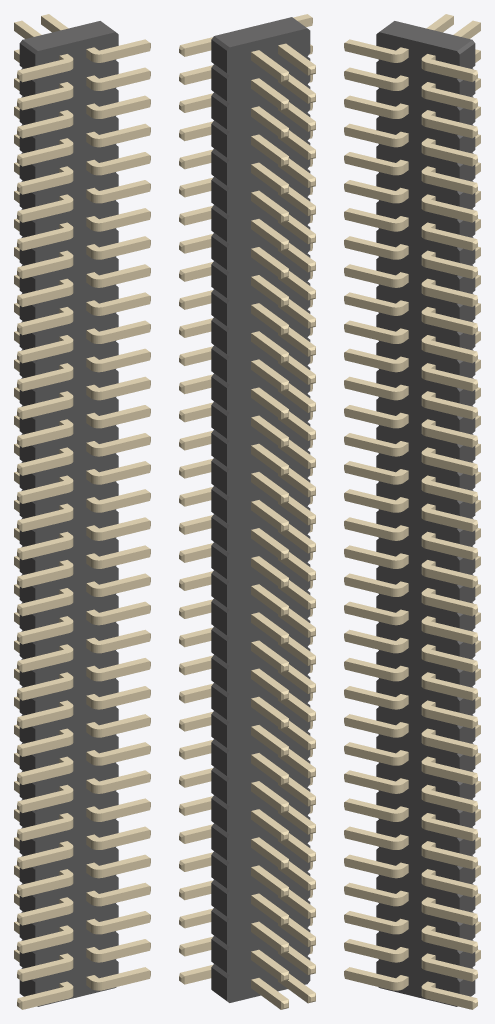
The model's file is PinHeader_2x34_P1.00mm_Vertical_SMD.glb.
3 views of the same model, side by side, from view 1: azimuth 30°, elevation 25°; view 2: azimuth 210°, elevation 25°; view 3: azimuth 330°, elevation 25° (orthographic).
Parts seen in each view (by area): view 1: Shape_IndexedFaceSet.003, Shape_IndexedFaceSet.001, Shape_IndexedFaceSet.790, Shape_IndexedFaceSet.995, Shape_IndexedFaceSet.800, Shape_IndexedFaceSet.855, Shape_IndexedFaceSet.860, Shape_IndexedFaceSet.920, Shape_IndexedFaceSet.1000, Shape_IndexedFaceSet.760, Shape_IndexedFaceSet.820, Shape_IndexedFaceSet.850 (+58 smaller); view 2: Shape_IndexedFaceSet.004, Shape_IndexedFaceSet.001, Shape_IndexedFaceSet.002, Shape_IndexedFaceSet.016, Shape_IndexedFaceSet.028, Shape_IndexedFaceSet.040, Shape_IndexedFaceSet.046, Shape_IndexedFaceSet.052, Shape_IndexedFaceSet.058, Shape_IndexedFaceSet.070, Shape_IndexedFaceSet.082, Shape_IndexedFaceSet.094 (+24 smaller); view 3: Shape_IndexedFaceSet.003, Shape_IndexedFaceSet.001, Shape_IndexedFaceSet.800, Shape_IndexedFaceSet.1000, Shape_IndexedFaceSet.790, Shape_IndexedFaceSet.855, Shape_IndexedFaceSet.860, Shape_IndexedFaceSet.930, Shape_IndexedFaceSet.995, Shape_IndexedFaceSet.765, Shape_IndexedFaceSet.815, Shape_IndexedFaceSet.845 (+58 smaller).
Boxes of the visible parts, left/top/right/bottom form: Shape_IndexedFaceSet.003: left=35, top=32, right=118, bottom=1006; Shape_IndexedFaceSet.001: left=23, top=21, right=115, bottom=50; Shape_IndexedFaceSet.790: left=22, top=287, right=68, bottom=306; Shape_IndexedFaceSet.995: left=22, top=568, right=68, bottom=588; Shape_IndexedFaceSet.800: left=103, top=267, right=149, bottom=287; Shape_IndexedFaceSet.855: left=103, top=464, right=149, bottom=483; Shape_IndexedFaceSet.860: left=22, top=484, right=68, bottom=503; Shape_IndexedFaceSet.920: left=22, top=765, right=68, bottom=784; Shape_IndexedFaceSet.1000: left=103, top=549, right=149, bottom=568; Shape_IndexedFaceSet.760: left=22, top=231, right=68, bottom=250; Shape_IndexedFaceSet.820: left=103, top=408, right=149, bottom=427; Shape_IndexedFaceSet.850: left=22, top=343, right=68, bottom=363; Shape_IndexedFaceSet.004: left=227, top=28, right=310, bottom=1002; Shape_IndexedFaceSet.001: left=214, top=17, right=306, bottom=47; Shape_IndexedFaceSet.002: left=211, top=39, right=226, bottom=72; Shape_IndexedFaceSet.016: left=211, top=96, right=226, bottom=129; Shape_IndexedFaceSet.028: left=211, top=152, right=226, bottom=185; Shape_IndexedFaceSet.040: left=211, top=208, right=226, bottom=241; Shape_IndexedFaceSet.046: left=211, top=236, right=226, bottom=269; Shape_IndexedFaceSet.052: left=211, top=264, right=226, bottom=297; Shape_IndexedFaceSet.058: left=211, top=292, right=226, bottom=325; Shape_IndexedFaceSet.070: left=211, top=349, right=226, bottom=382; Shape_IndexedFaceSet.082: left=211, top=405, right=226, bottom=438; Shape_IndexedFaceSet.094: left=211, top=461, right=226, bottom=494; Shape_IndexedFaceSet.003: left=376, top=32, right=459, bottom=1006; Shape_IndexedFaceSet.001: left=379, top=21, right=471, bottom=50; Shape_IndexedFaceSet.800: left=426, top=287, right=472, bottom=306; Shape_IndexedFaceSet.1000: left=426, top=568, right=472, bottom=588; Shape_IndexedFaceSet.790: left=345, top=267, right=391, bottom=287; Shape_IndexedFaceSet.855: left=426, top=484, right=472, bottom=503; Shape_IndexedFaceSet.860: left=345, top=464, right=391, bottom=483; Shape_IndexedFaceSet.930: left=426, top=765, right=472, bottom=784; Shape_IndexedFaceSet.995: left=345, top=549, right=391, bottom=568; Shape_IndexedFaceSet.765: left=426, top=231, right=472, bottom=250; Shape_IndexedFaceSet.815: left=345, top=408, right=391, bottom=427; Shape_IndexedFaceSet.845: left=426, top=343, right=472, bottom=363.
Size of the model in its own units: 1.93 by 13.39 by 1.42.
